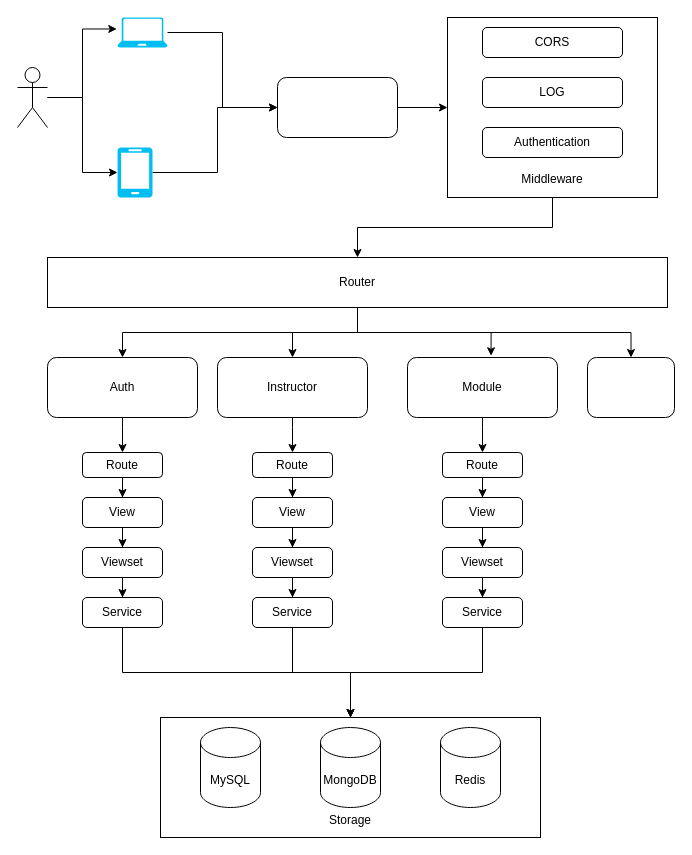
Some shapes in this 692 by 855 pixel diagram are drawn without their labels. The centre of each missing label's shape, as x and y in pixels:
Gin Web: (x=337, y=107)
Module ...: (x=630, y=387)
User: (x=32, y=97)
